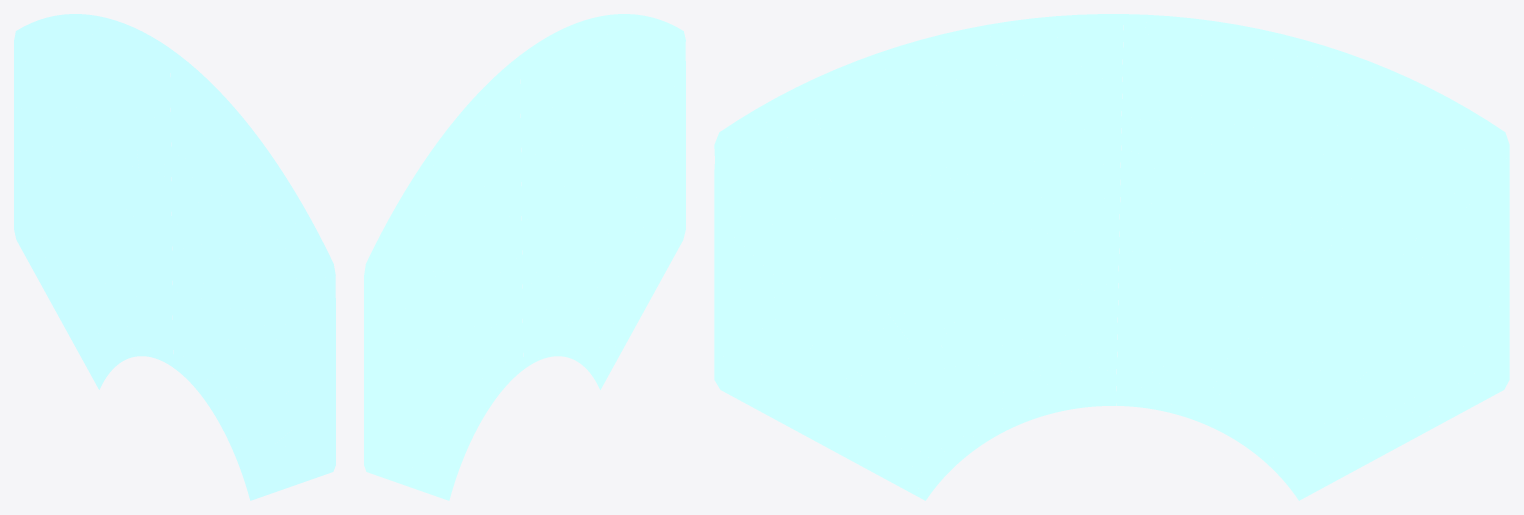
File: terrain-map.glb
3 renders of one model, left to right at view 1: azimuth 30°, elevation 25°; view 2: azimuth 150°, elevation 25°; view 3: azimuth 270°, elevation 25°, orthographic. The views are drawn at different scales.
Bounding box in the file's own units: 2.79e-07 × 0.1078 × 0.1596.
Materials: 1 (1 with a texture image).
